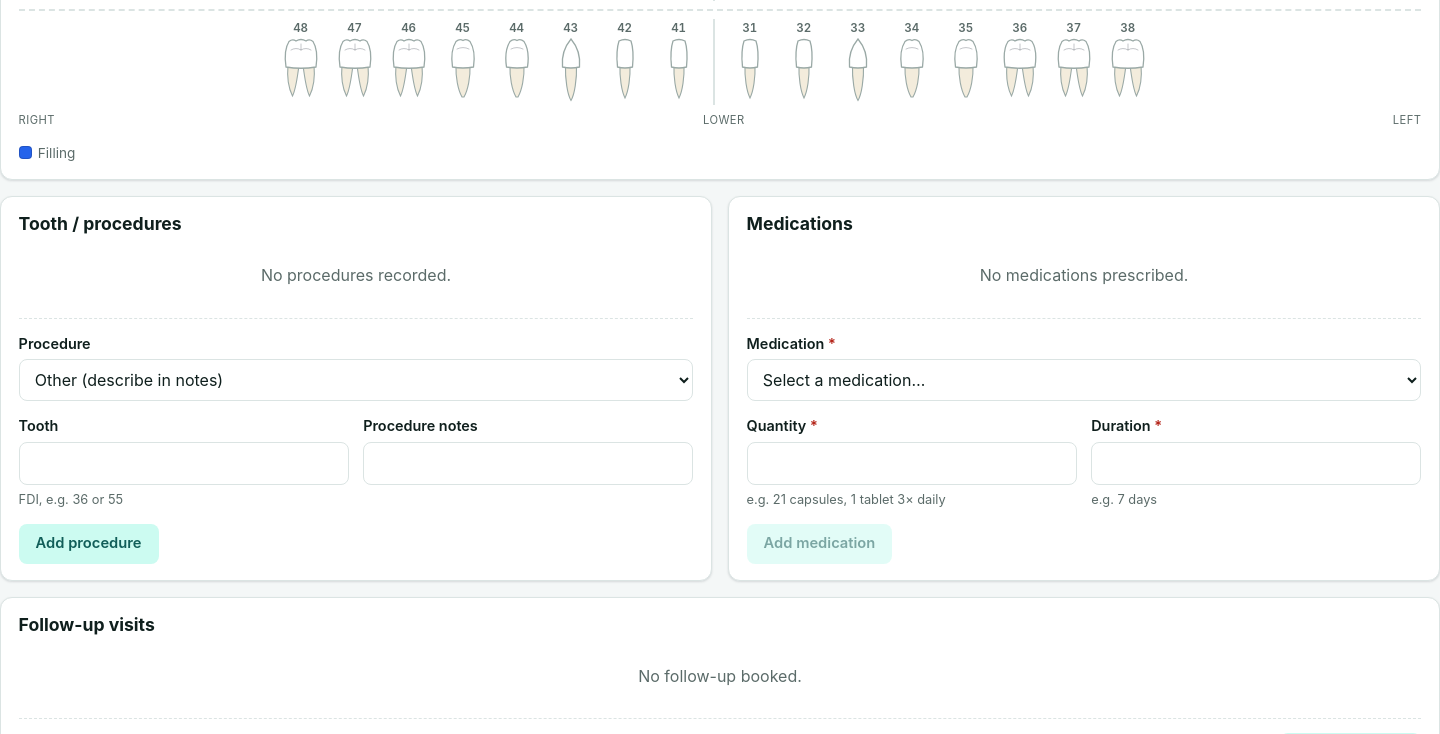
Test: visit page (VISIT-001..007) › adds a medication with quantity and duration
(page scrolled)
Step 1. Select "Amoxicillin — 500 mg" in the dropdown labelled "Medication *" → (1084, 380), box [747,359,1421,401]
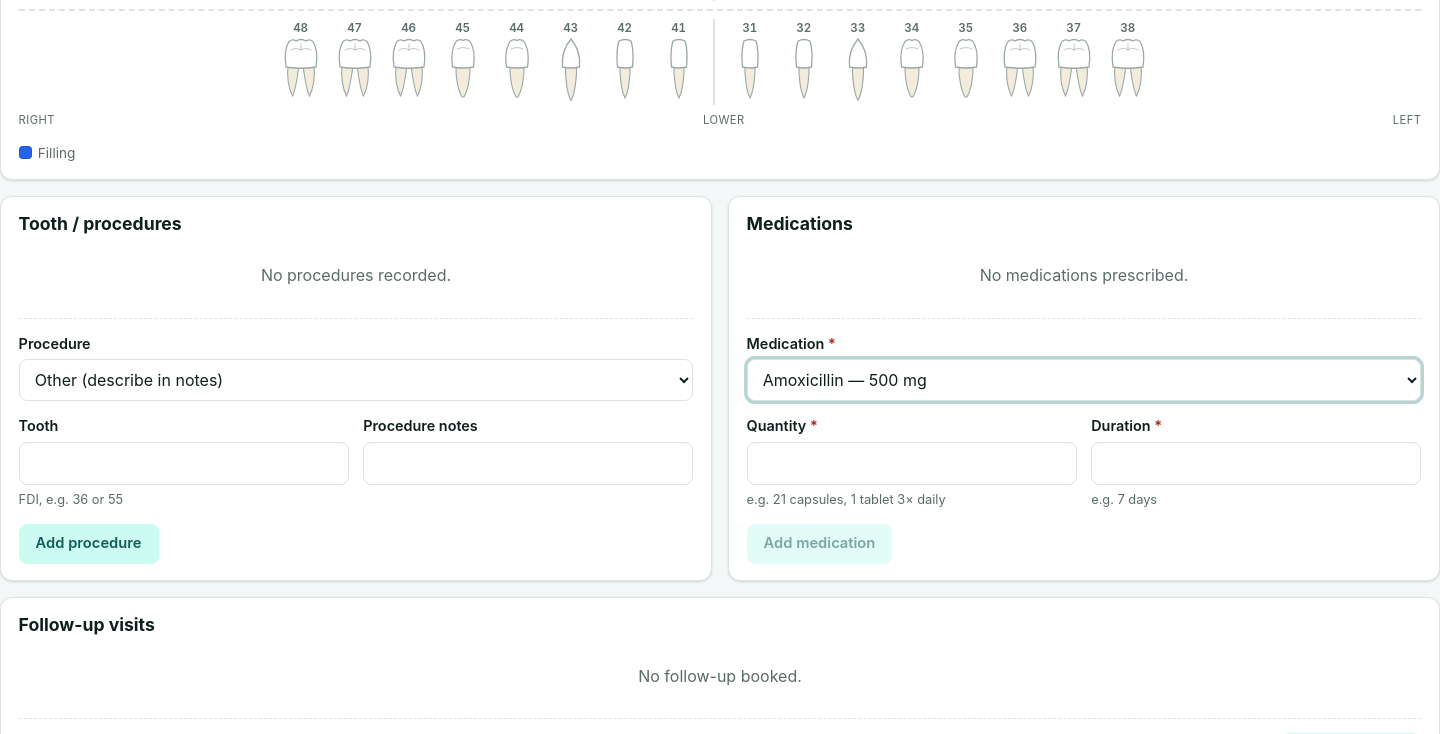
Step 2. Type "21 capsules" into the field labelled "Quantity *" → (912, 464), box [747,442,1077,485]
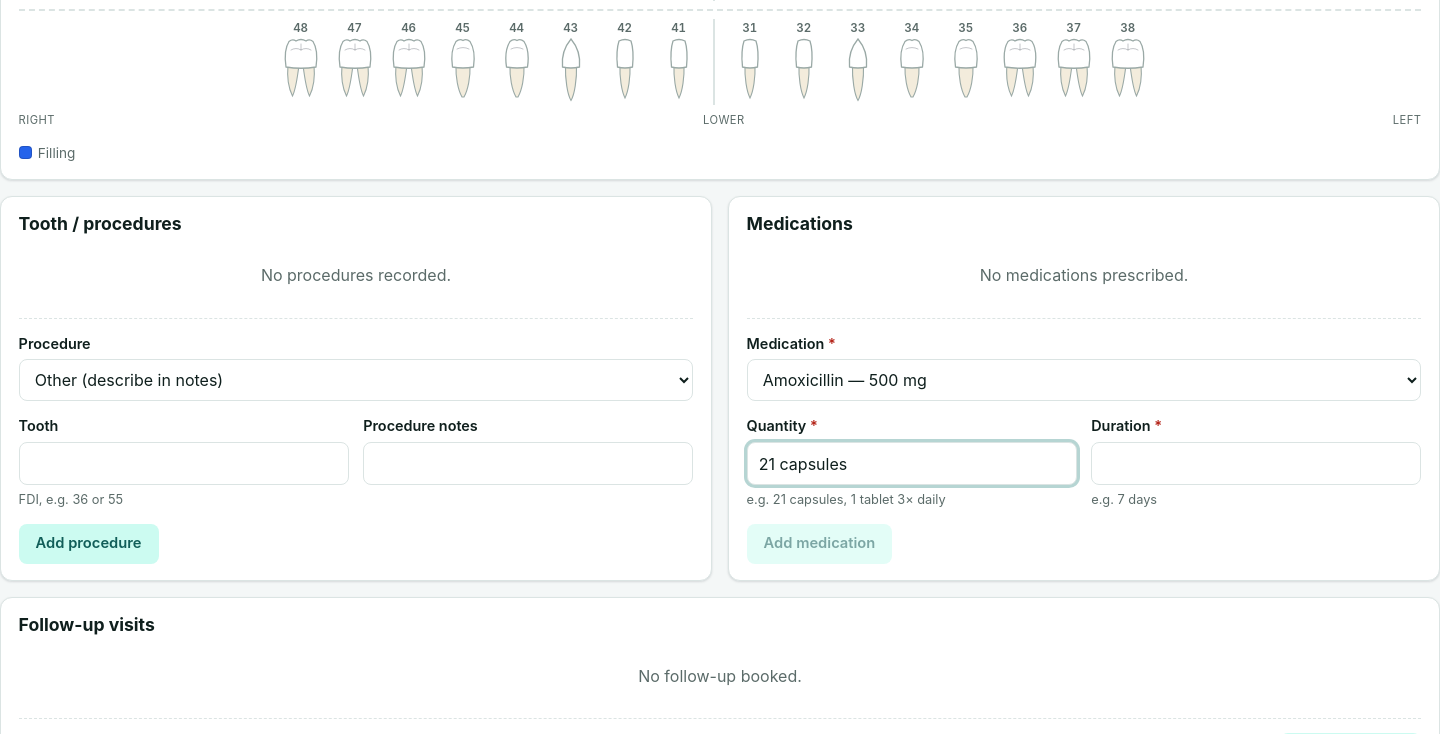
Step 3. Type "7 days" into the field labelled "Duration *" → (1256, 464), box [1091,442,1421,485]
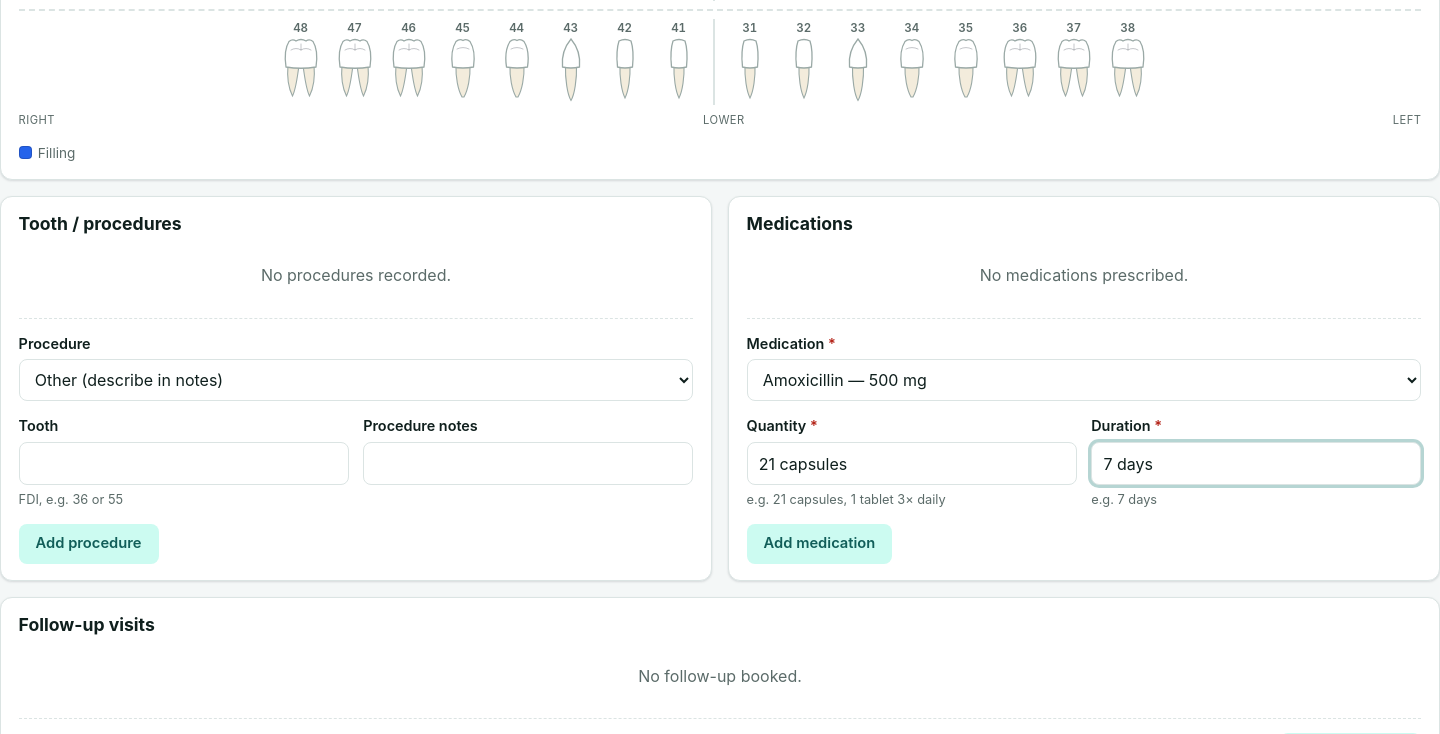
Step 4. Click the button "Add medication" → (820, 544), box [747,524,892,564]
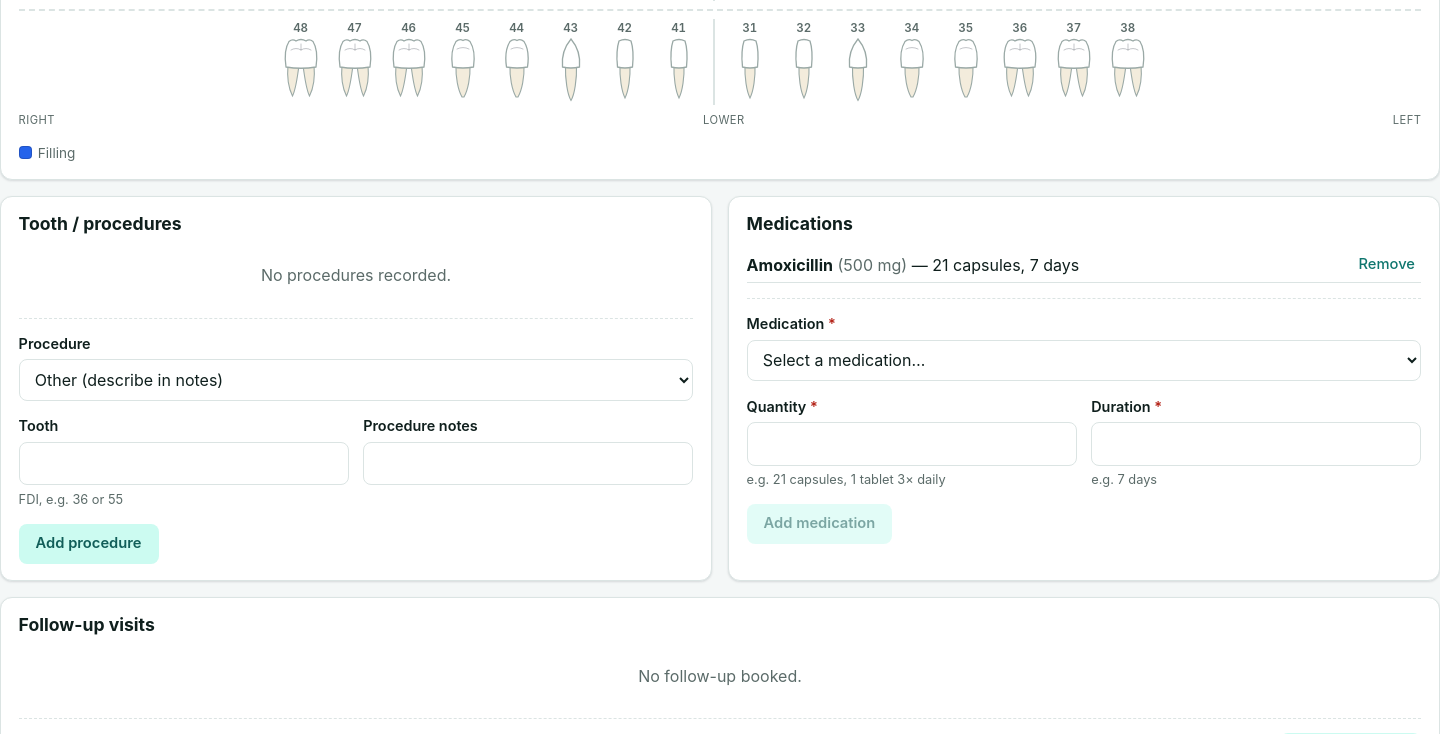
Expected: the text "Amoxicillin (500 mg) — 21 capsules, 7 days" is shown, [747,253,1079,277]
